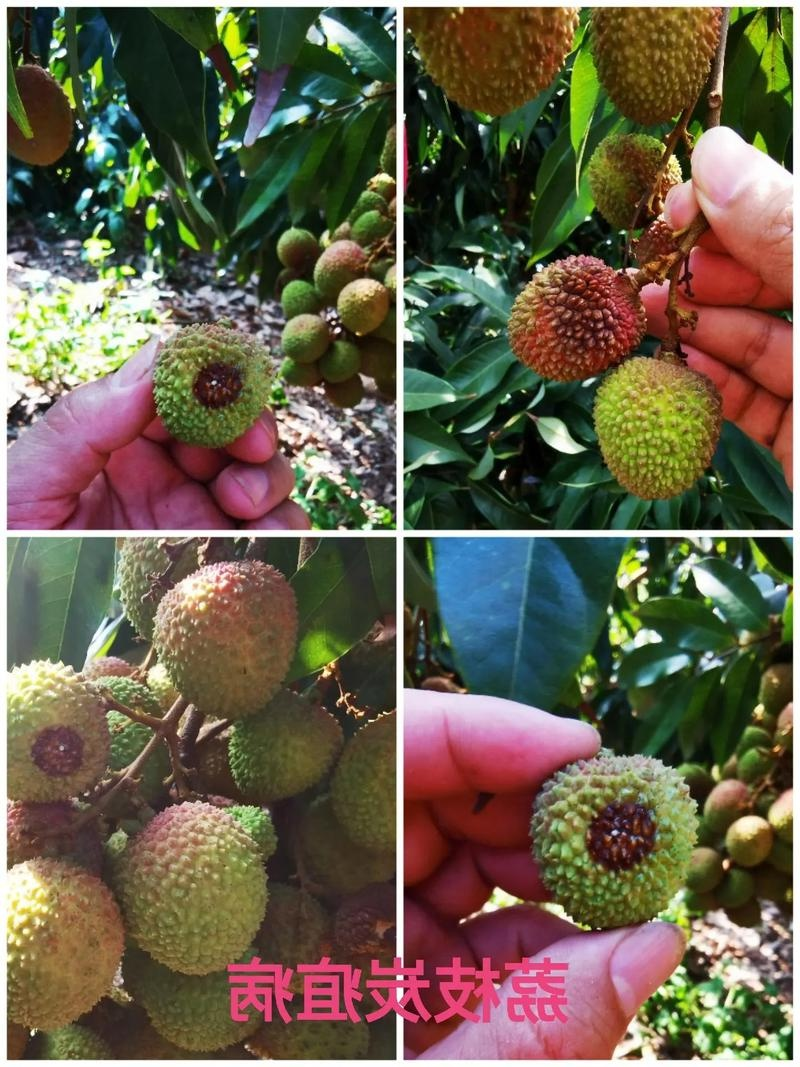Anthracnose: (512, 207, 673, 354), (554, 772, 743, 881), (550, 8, 725, 109), (587, 145, 707, 230), (178, 308, 271, 409), (22, 726, 90, 808)
